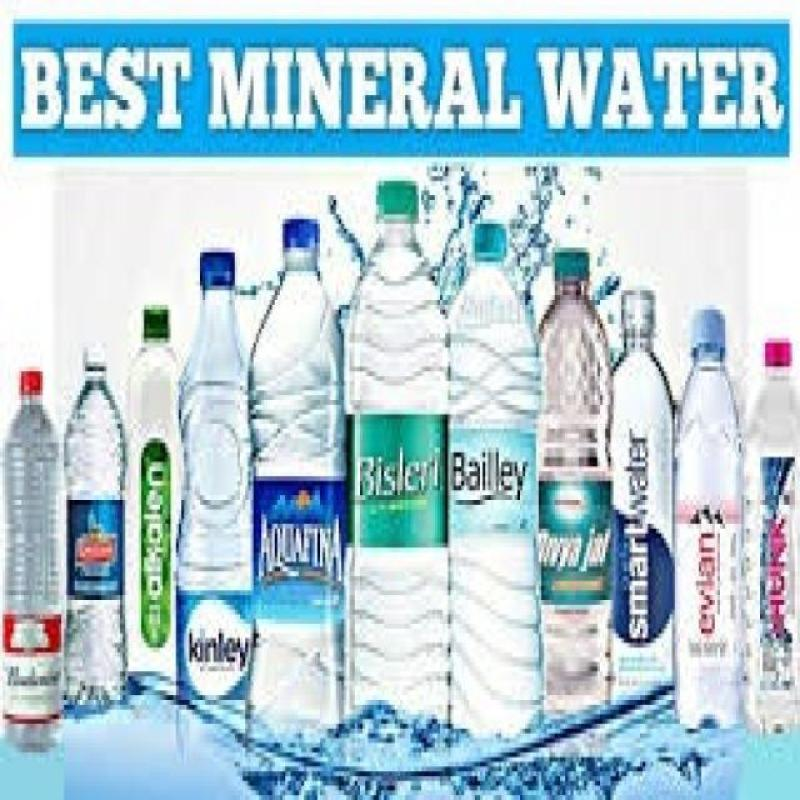botella: (345, 179, 453, 760), (248, 211, 344, 755), (449, 224, 540, 748), (178, 252, 251, 719), (540, 252, 609, 710), (673, 309, 743, 733), (609, 288, 673, 707), (3, 372, 64, 752), (61, 347, 125, 705), (744, 336, 800, 736), (125, 304, 181, 686)
